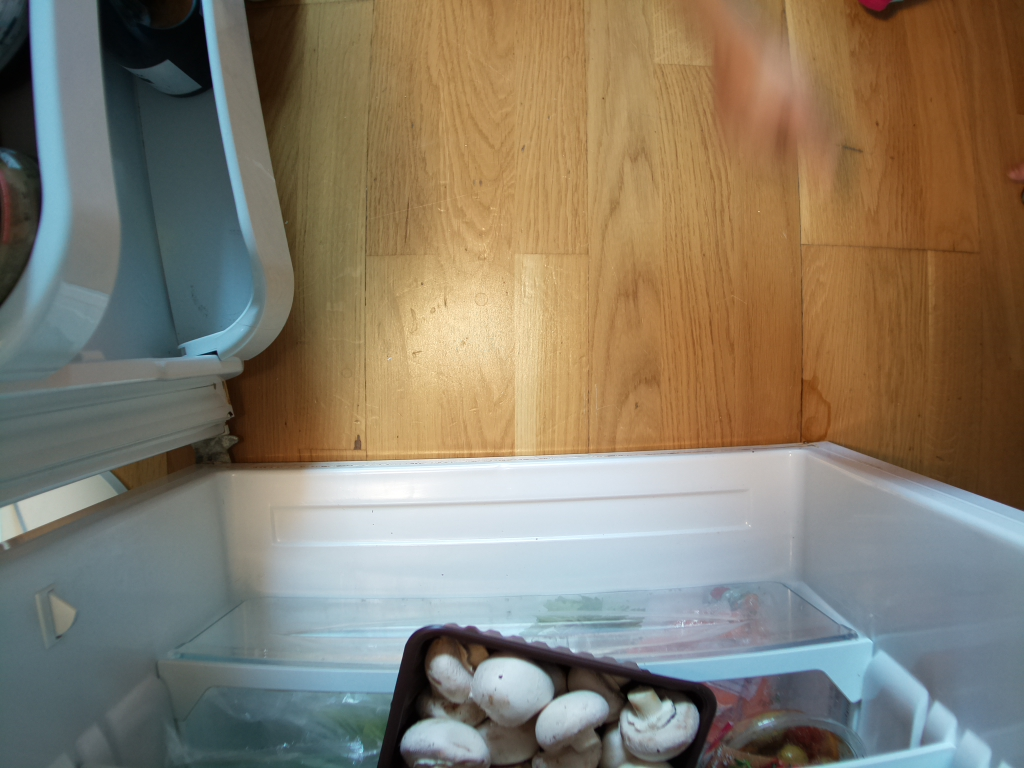mushrooms: (383, 621, 722, 768)
